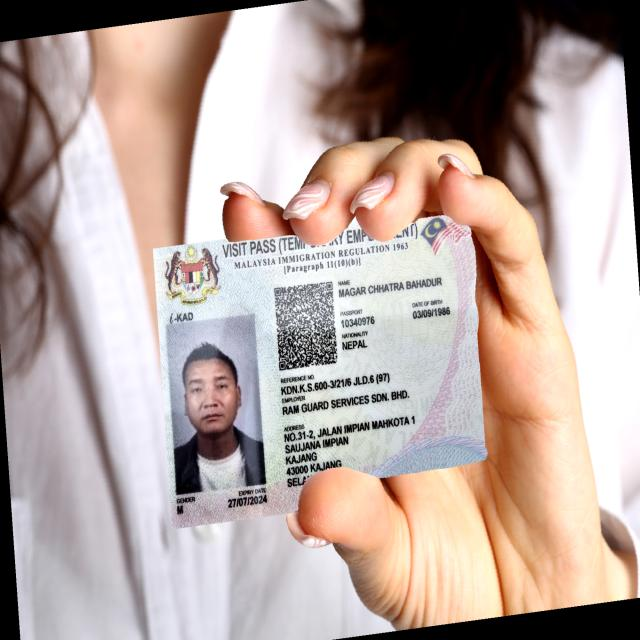ikad-temp: (152, 212, 487, 528)
